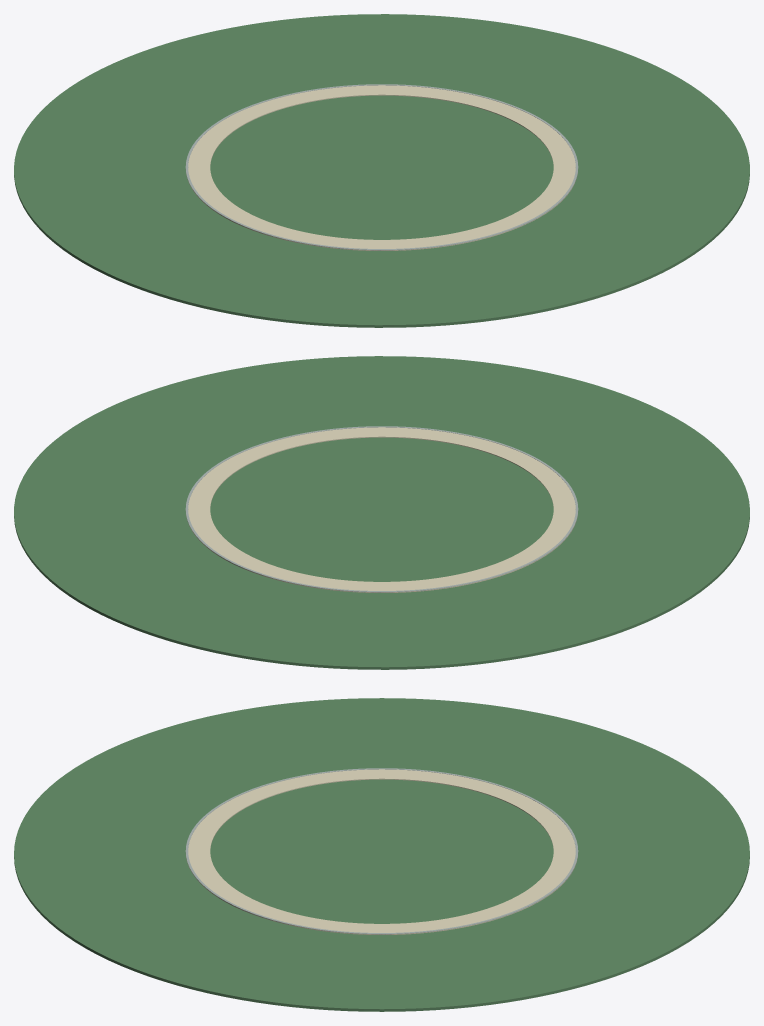
File: PLAZA-002.glb
3 views of the same model, one above another, from view 1: azimuth 30°, elevation 25°; view 2: azimuth 150°, elevation 25°; view 3: azimuth 270°, elevation 25° (orthographic).
Visible parts, largest first — view 1: PLAZA-002; view 2: PLAZA-002; view 3: PLAZA-002.
Part boxes in pixels (x1,y1,x2,y2): PLAZA-002: (14, 14, 749, 327); PLAZA-002: (14, 356, 749, 669); PLAZA-002: (14, 698, 749, 1011).
Bounding box in the file's own units: 45 × 0.35 × 45.
